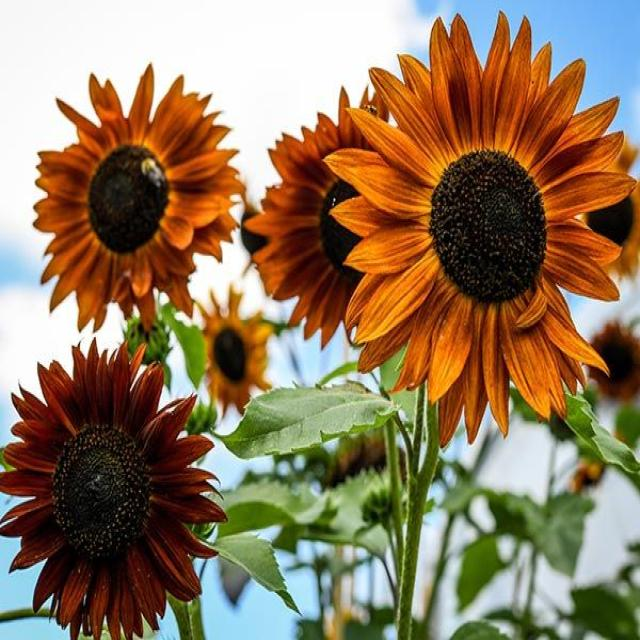sunflower: (328, 3, 634, 456), (0, 337, 251, 637), (18, 54, 242, 330), (177, 279, 280, 419)
